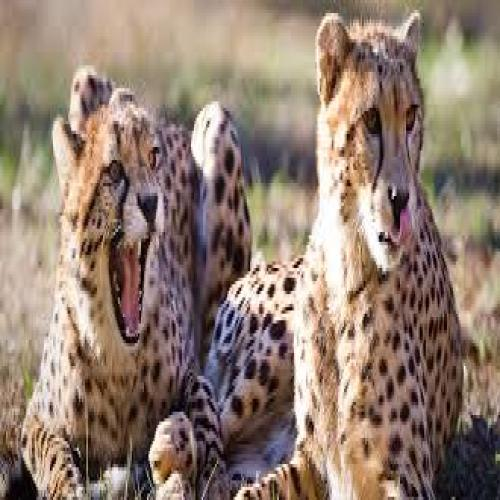cheetah-endangered: (212, 23, 456, 500), (39, 71, 251, 489)
